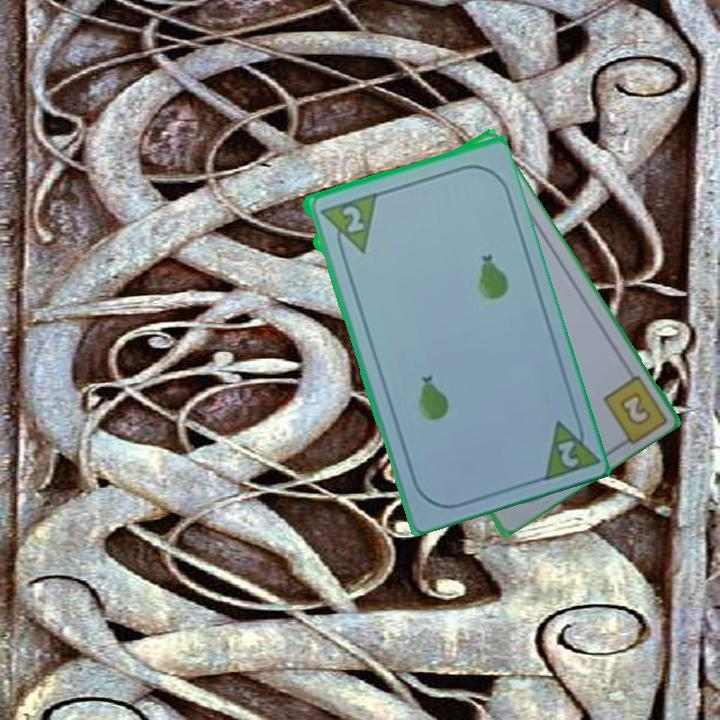2b: (615, 388, 654, 428)
2p: (536, 408, 599, 483), (315, 189, 379, 261)
